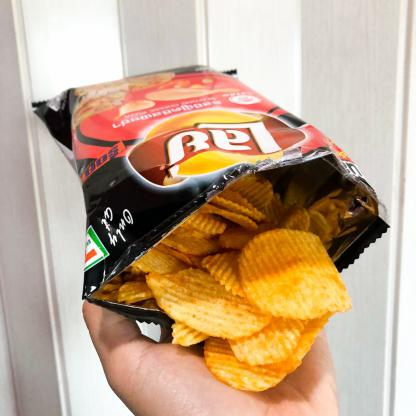potatochip: (26, 61, 398, 334)
